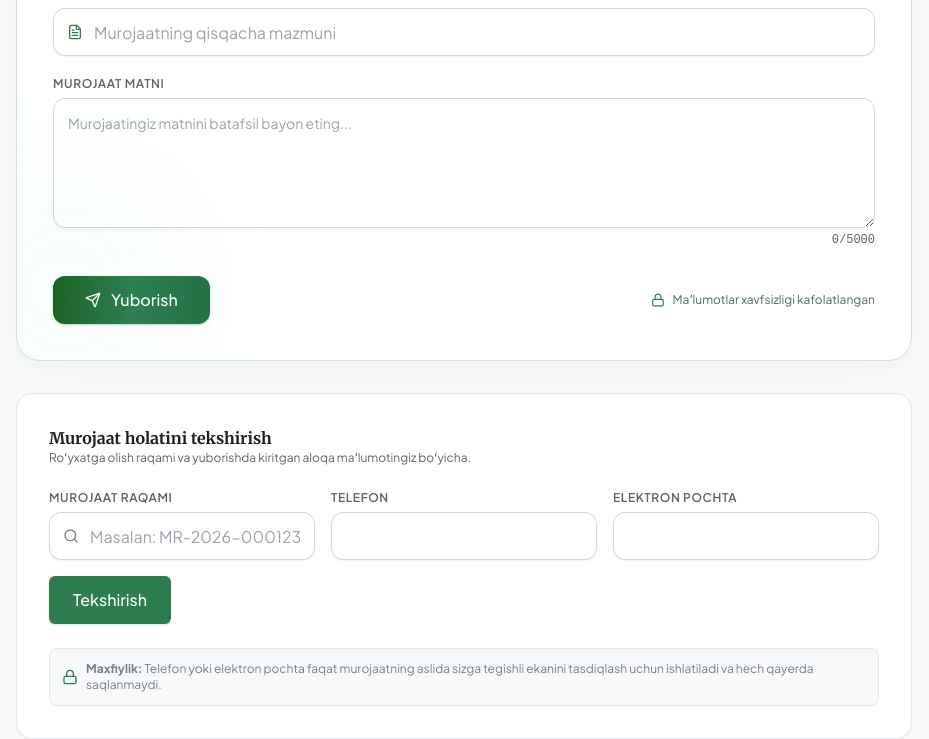
AppealCheckPage › renders the answer panel and the correct status badge for a found response
(page scrolled)
Type "MR-2026-000123" into the field with placeholder "Masalan: MR-2026-000123" at (182, 536), box [49, 512, 315, 560]
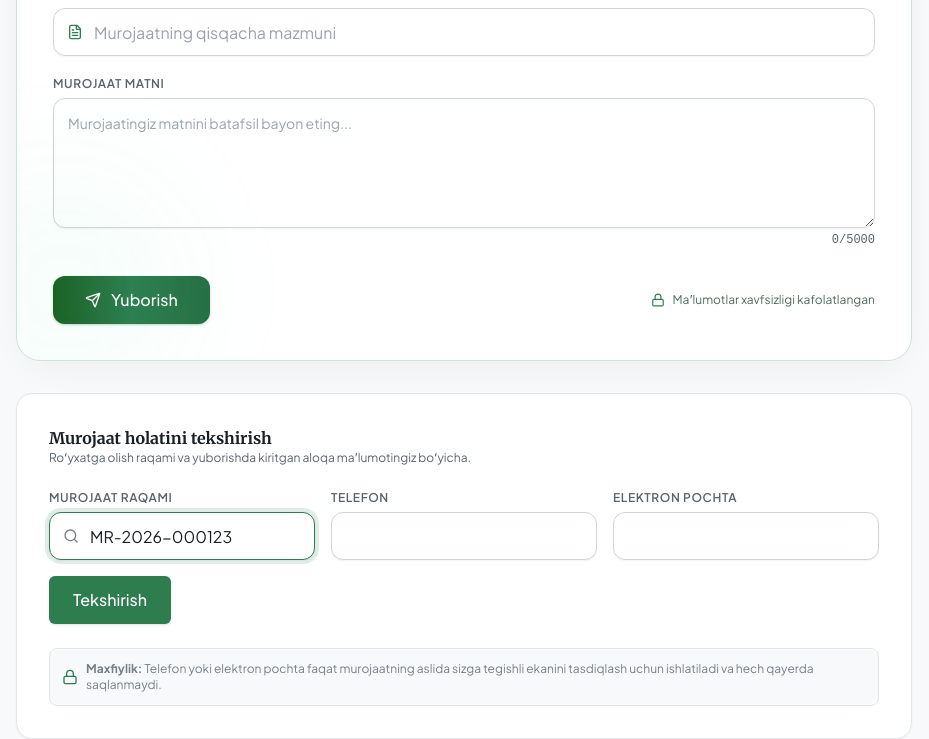
Type "+998901234567" into the field with id "appeal-phone" at (464, 536), box [331, 512, 597, 560]
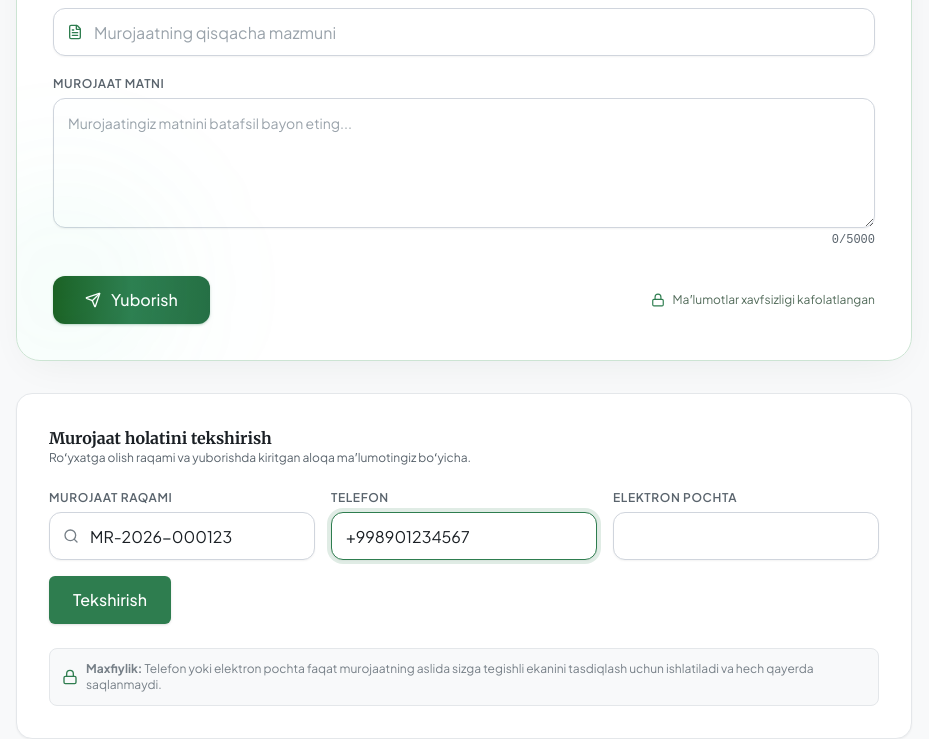
Click the button named "Tekshirish" below "Murojaat raqami" at (110, 600), box [49, 576, 171, 624]
(page scrolled)
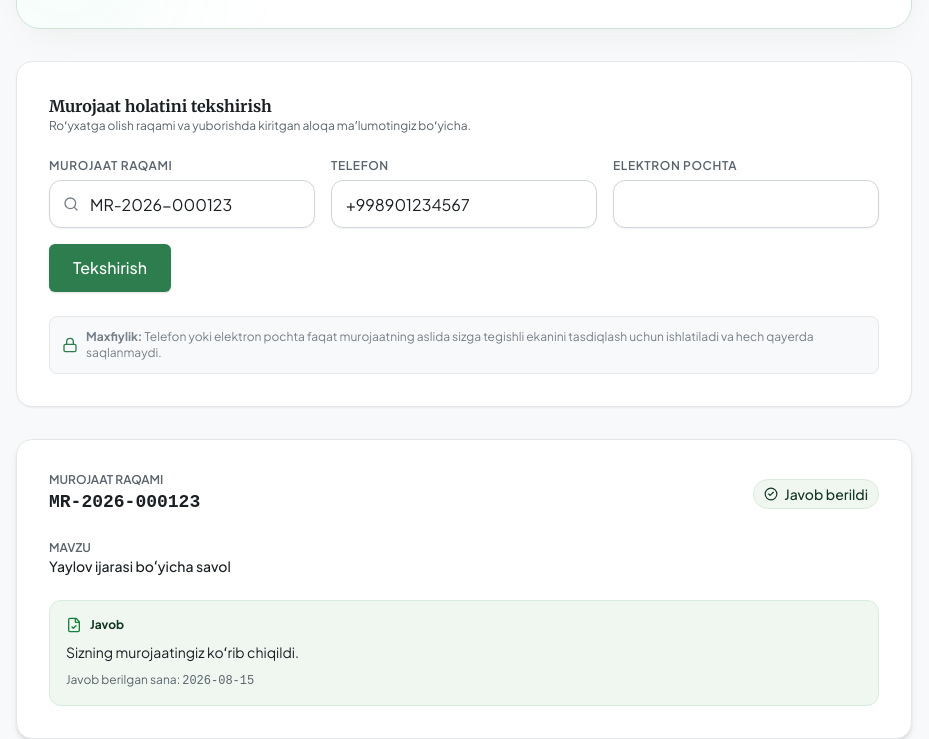
Now the text "Sizning murojaatingiz koʻrib chiqildi." is shown, box [66, 643, 299, 661]
Now the text "Javob berildi" is shown, box [784, 484, 868, 504]
Now the text "2026-08-15" is shown, box [182, 674, 254, 688]
